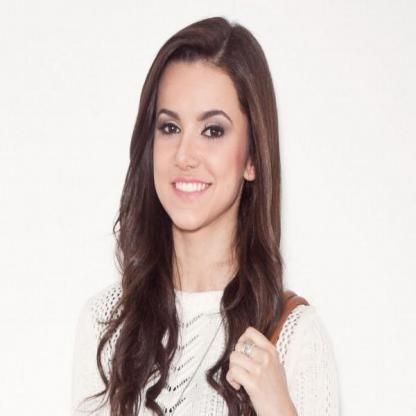long-hair: (108, 233, 289, 309)
